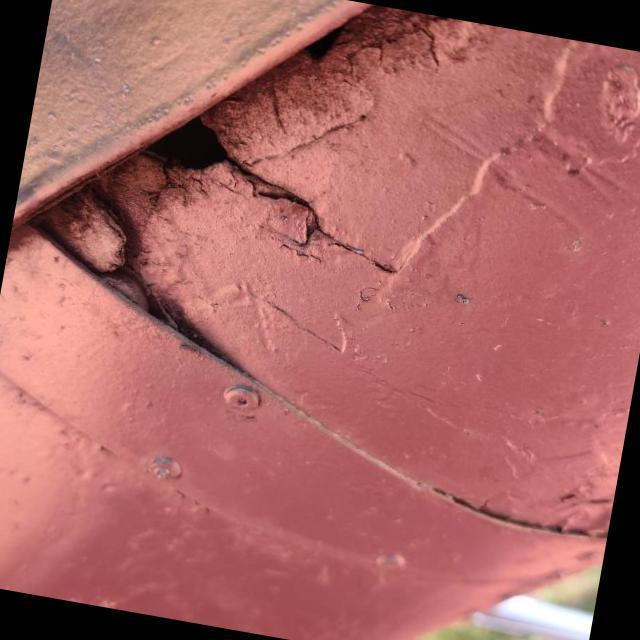Rupture: (110, 94, 349, 265)
